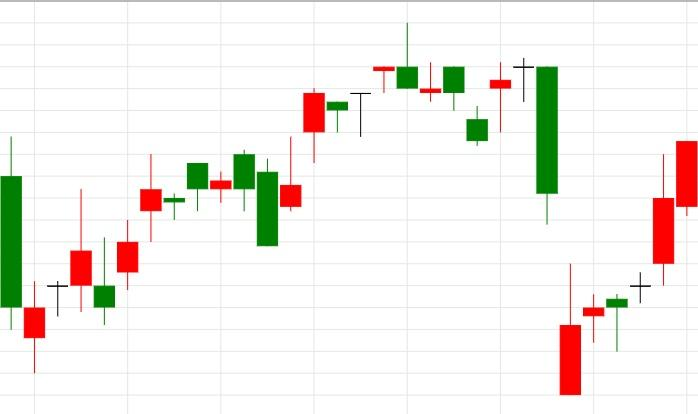shooting_star_fall: (257, 23, 419, 247)
